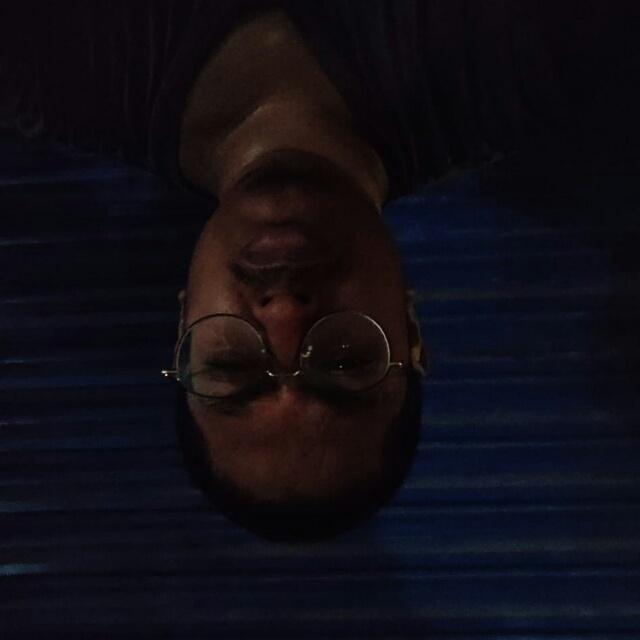Disgust: (116, 82, 459, 561)
